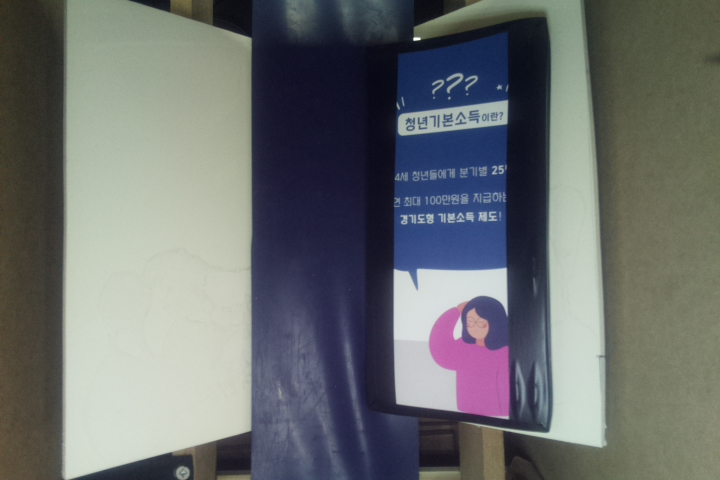book: (367, 14, 551, 433)
